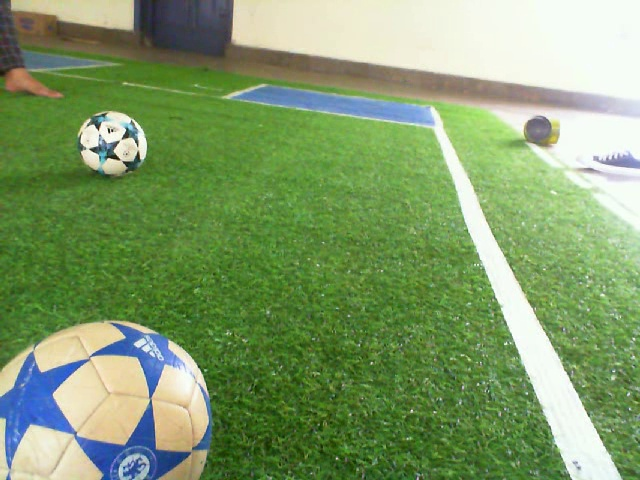ball: (1, 316, 214, 480), (76, 108, 149, 180)
